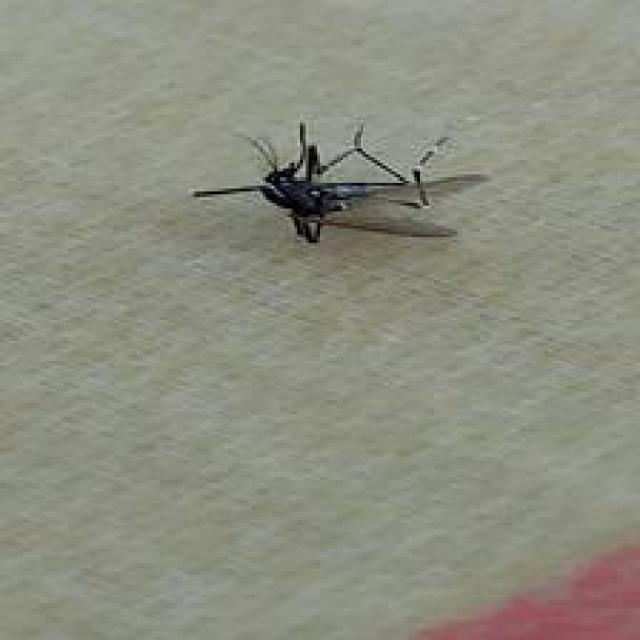Aedes albopictus: (190, 120, 487, 246)
